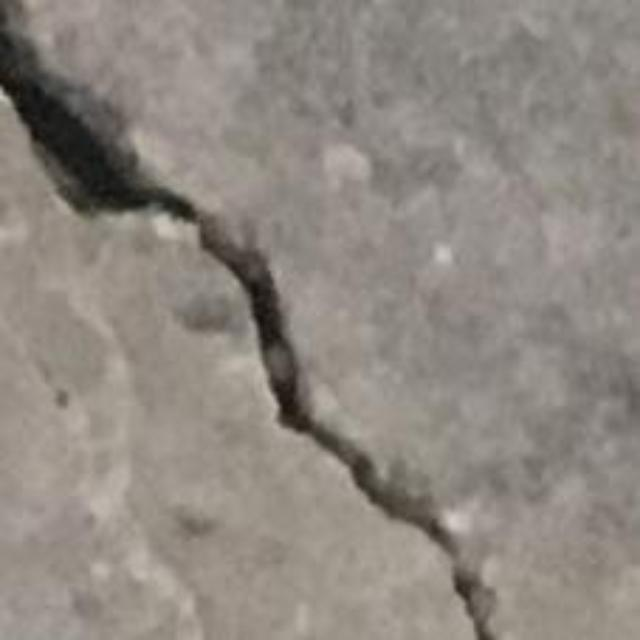crack: (0, 0, 501, 639)
